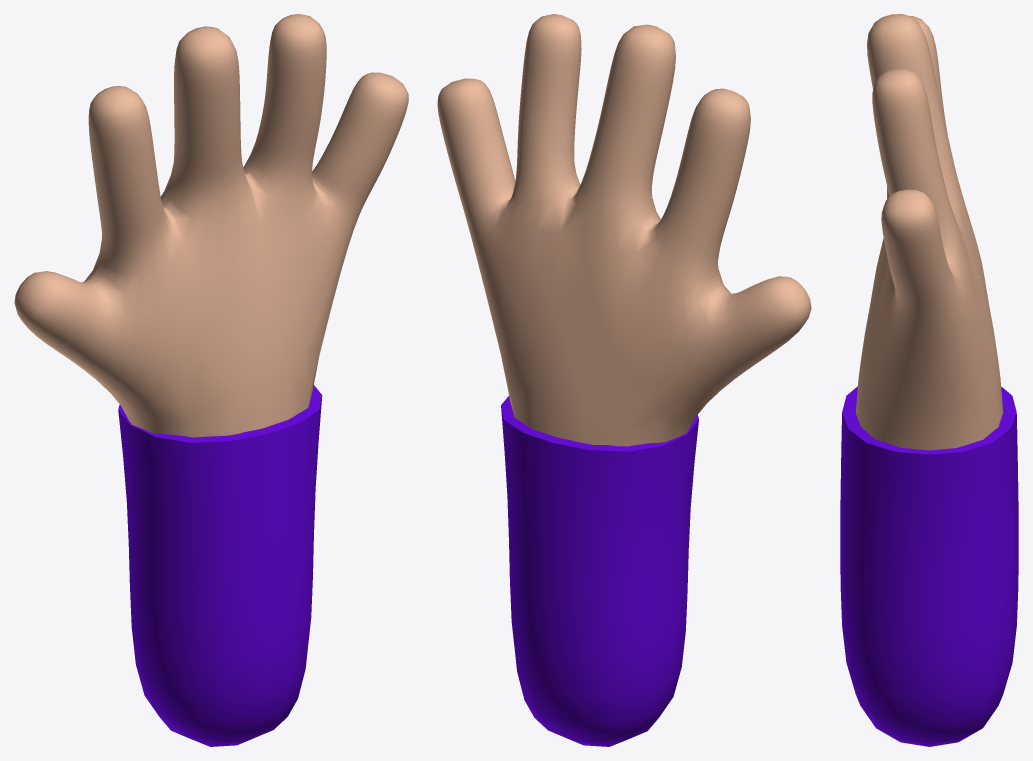
Rendered from hand.fbx.
The picture shows the model from 3 angles, left to right: view 1: azimuth 30°, elevation 25°; view 2: azimuth 150°, elevation 25°; view 3: azimuth 270°, elevation 25°; orthographic projection. The views are drawn at different scales.
Parts seen in each view (by area): view 1: Cube, Sleeve; view 2: Cube, Sleeve; view 3: Sleeve, Cube.
Boxes of the visible parts, x1,y1,x2,y2 form: Cube: (14,14,408,437); Sleeve: (118,385,322,746); Cube: (437,14,811,446); Sleeve: (501,396,698,746); Sleeve: (840,386,1018,746); Cube: (855,14,1003,450).
Size of the model in its own units: 344 by 627 by 144.
